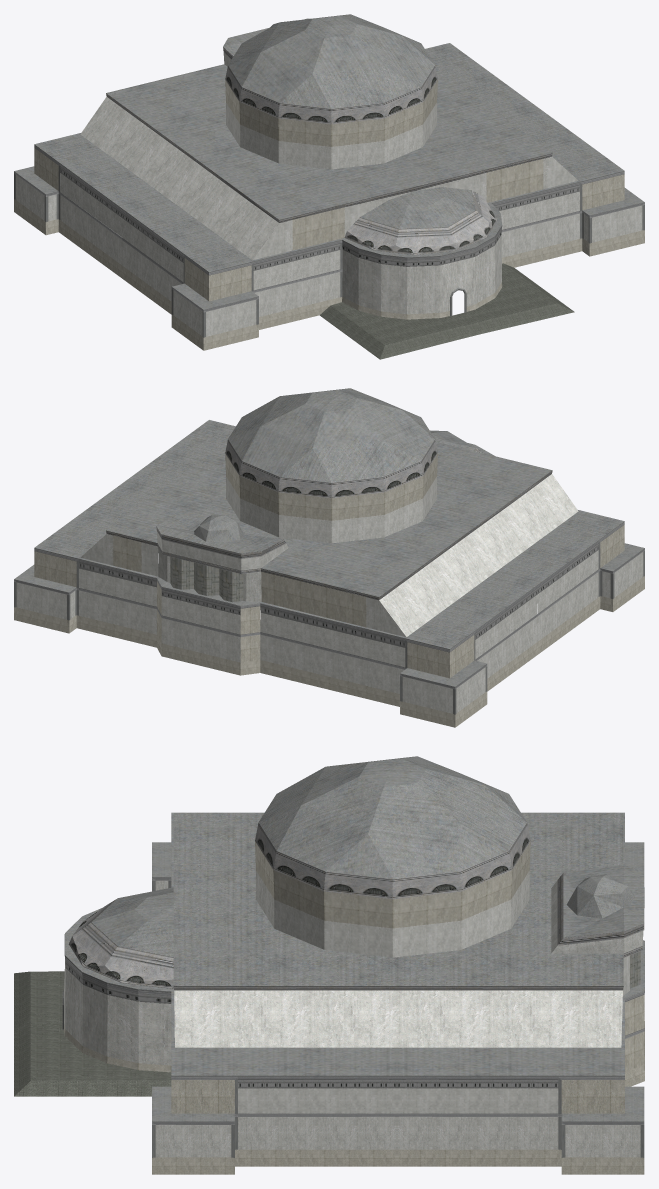
The model's file is mun_corl_hotel_s01_r0_hotel_mesh_exterior_l1.fbx.
3 views of the same model, one above another, from view 1: azimuth 30°, elevation 25°; view 2: azimuth 150°, elevation 25°; view 3: azimuth 270°, elevation 25° (orthographic). The views are drawn at different scales.
Parts seen in each view (by area): view 1: mesh_node; view 2: mesh_node; view 3: mesh_node.
Part boxes in pixels (box(x1,y1,x2,y2)): mesh_node: box(14, 14, 644, 359); mesh_node: box(14, 388, 644, 727); mesh_node: box(14, 756, 644, 1174).
Bounding box in the file's own units: 59.56 × 26.29 × 56.85.
